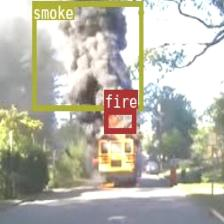fire: (104, 107, 135, 132)
smoke: (32, 0, 142, 109)
